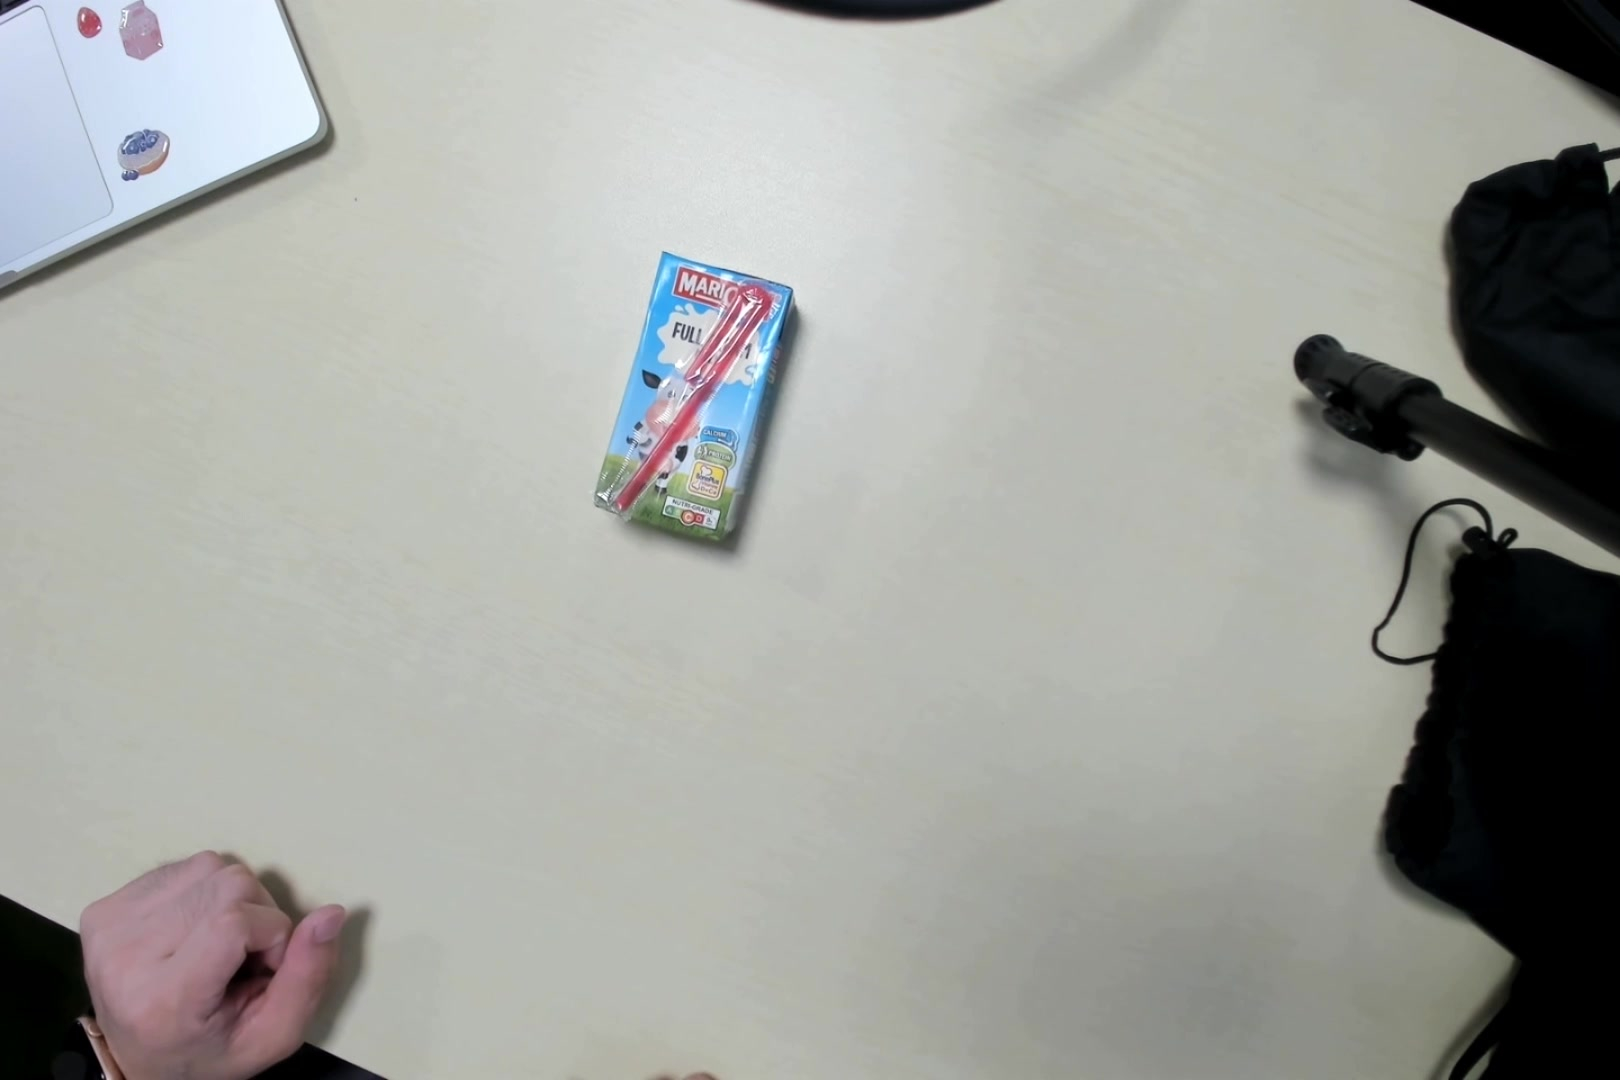Milk(Drink)_200-299g_Halal_NonHealthy: (595, 245, 804, 554)
